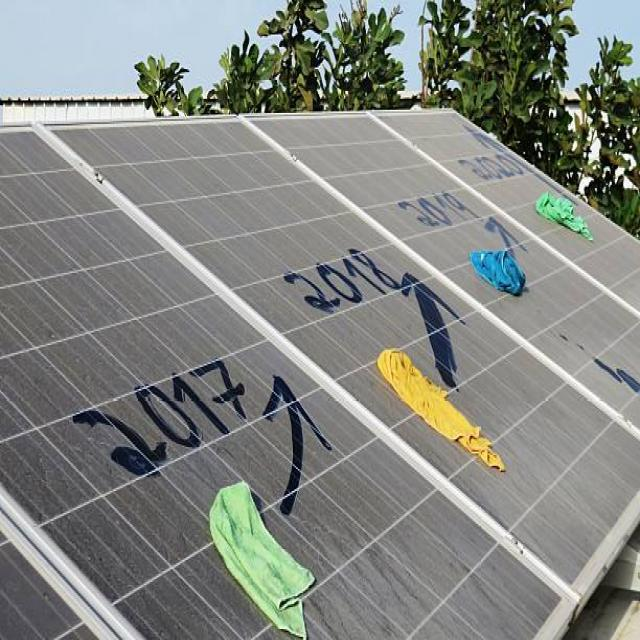faulty: (0, 104, 640, 640)
